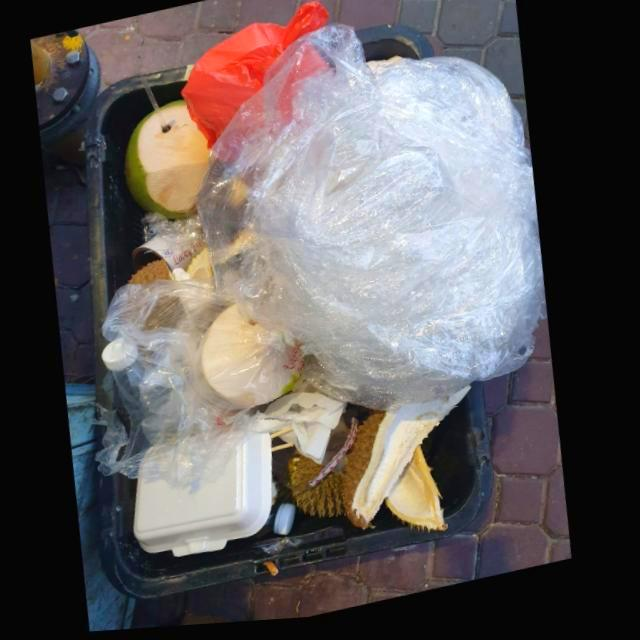paper: (264, 397, 353, 470)
plastic_bag: (198, 30, 552, 418), (182, 6, 330, 153)
plastic_container: (140, 431, 280, 560)
